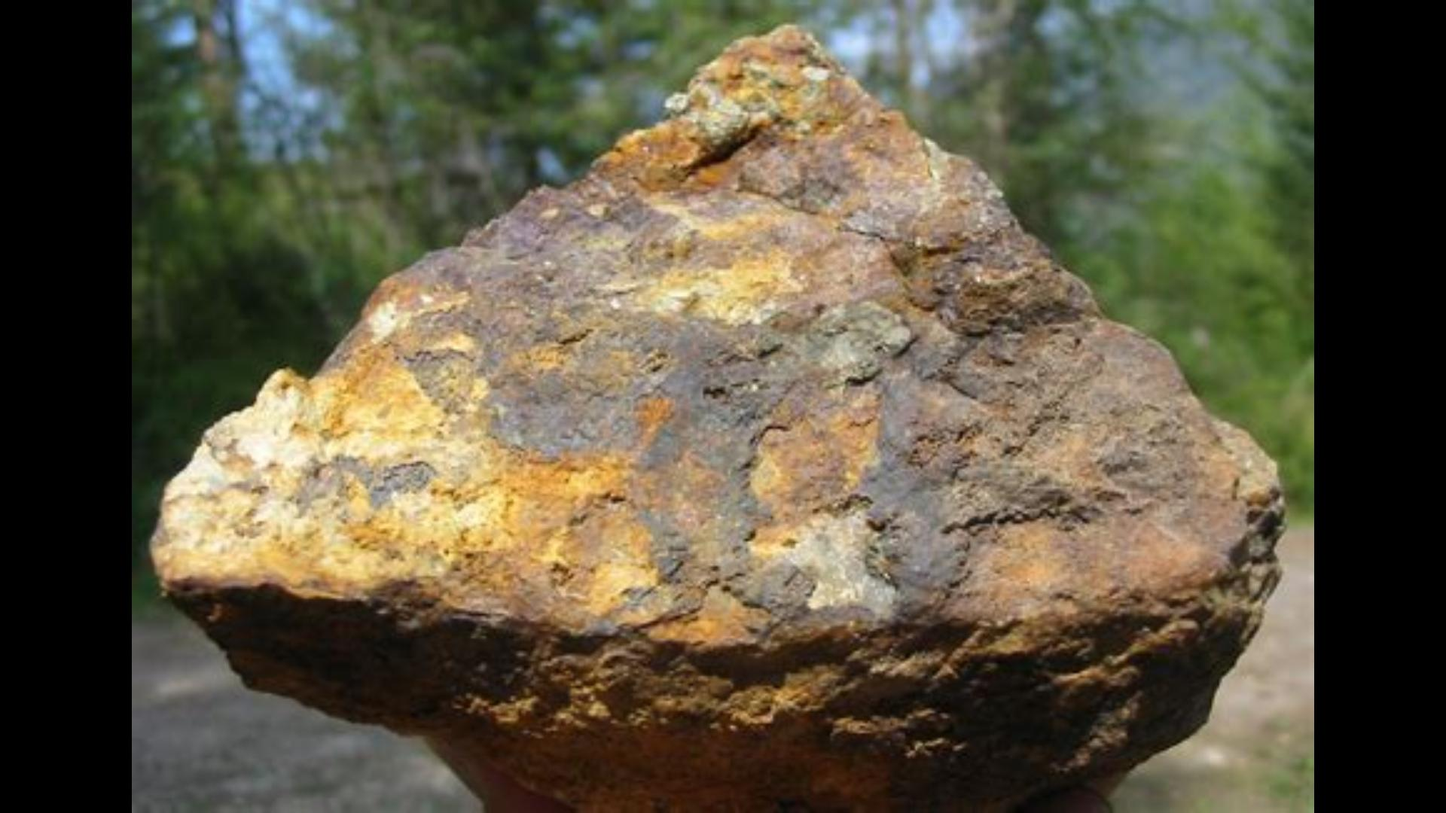rock: (154, 27, 1282, 808)
